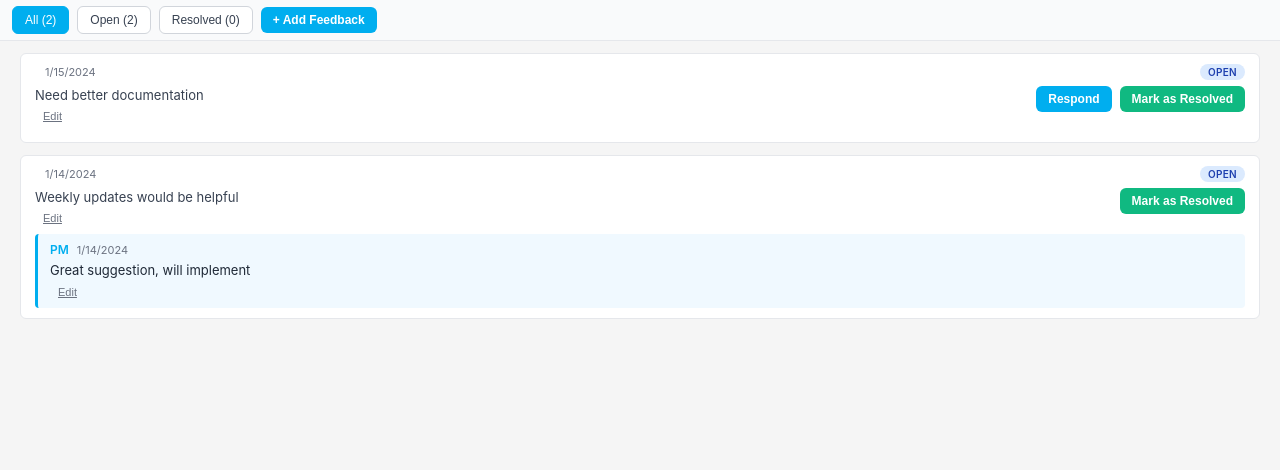
it: Feedback Component › PM Actions › should allow PM to respond to feedback
expect the text "Need better documentation" is shown: met, box top-left (35, 87), bottom-right (204, 103)
// Click respond button on the pending feedback item
Click the button "Respond".
click(1074, 99)  # box top-left (1036, 86), bottom-right (1112, 112)
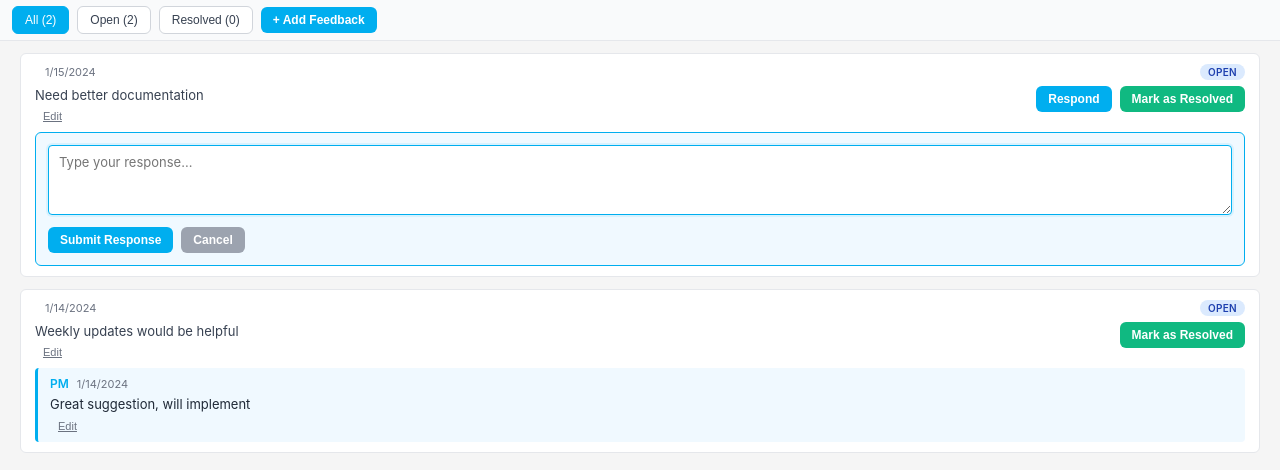
expect the text box with placeholder "Type your response..." is shown: met, box top-left (48, 145), bottom-right (1232, 215)
